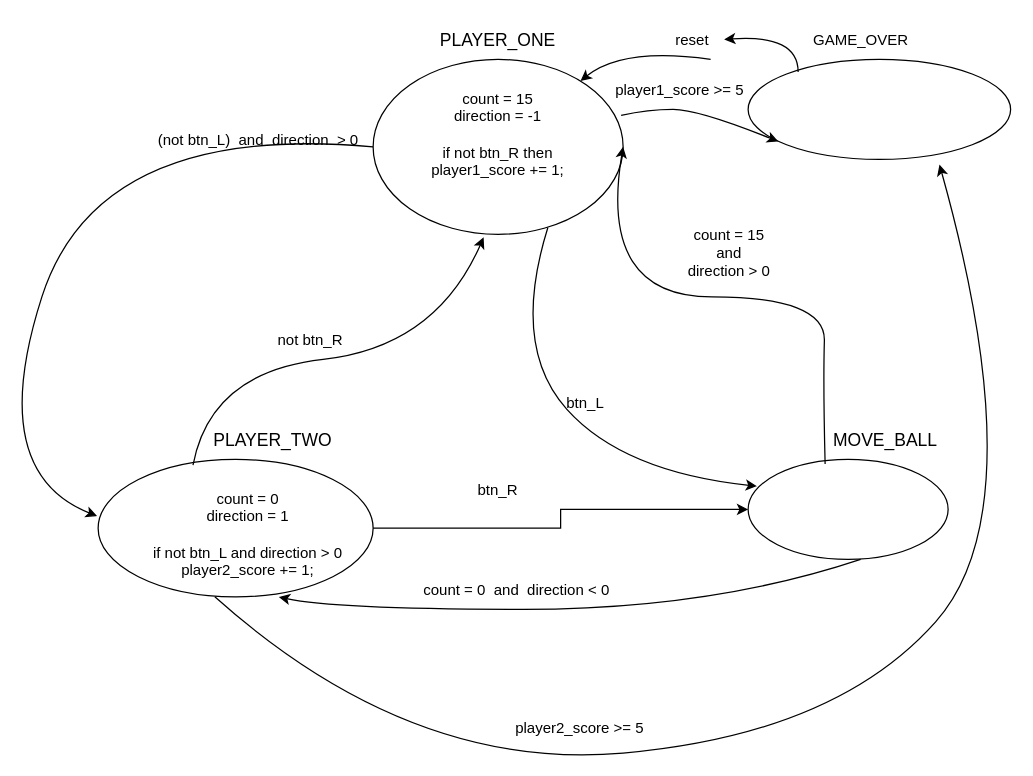
Image size: 1033x776. Some labels were removed from this diagram. Here are the shapes that lost their labels. From the top down, the centre of each, then its label:
point (879, 108): count = 0 direction = 0 player1_score = 0 player2_score = 0
point (847, 508): count = count + direction
